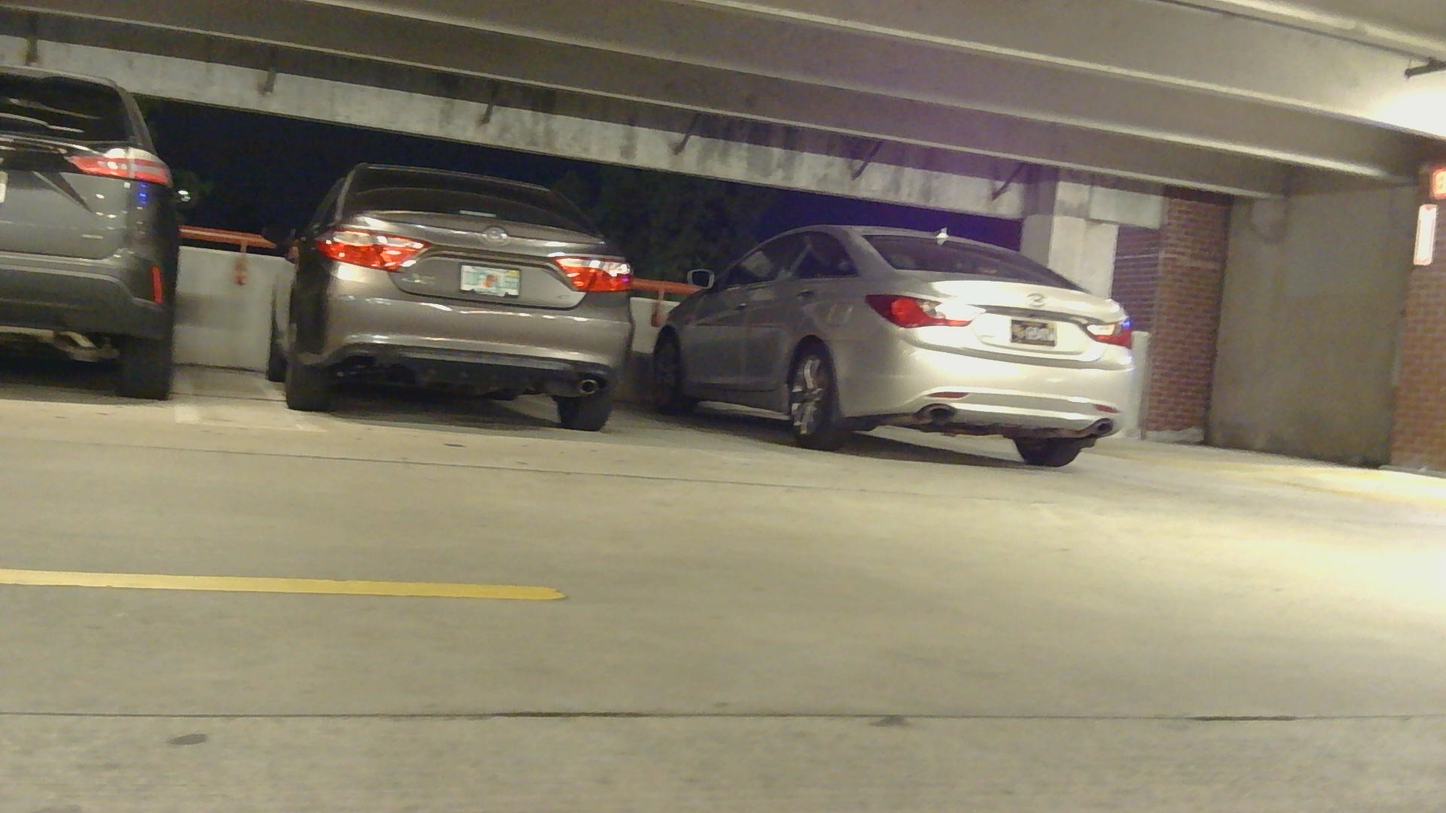occupied_spot: (649, 214, 1145, 474), (258, 153, 650, 456), (4, 64, 174, 398)
